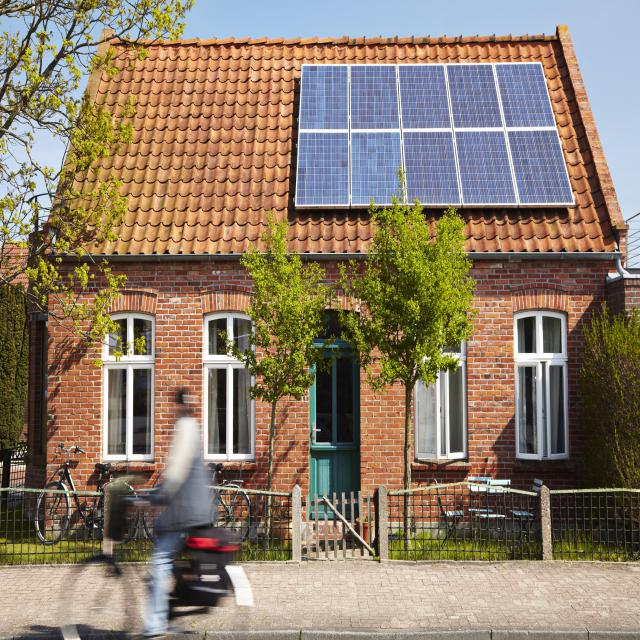dust-solar-panel: (295, 62, 575, 208)
